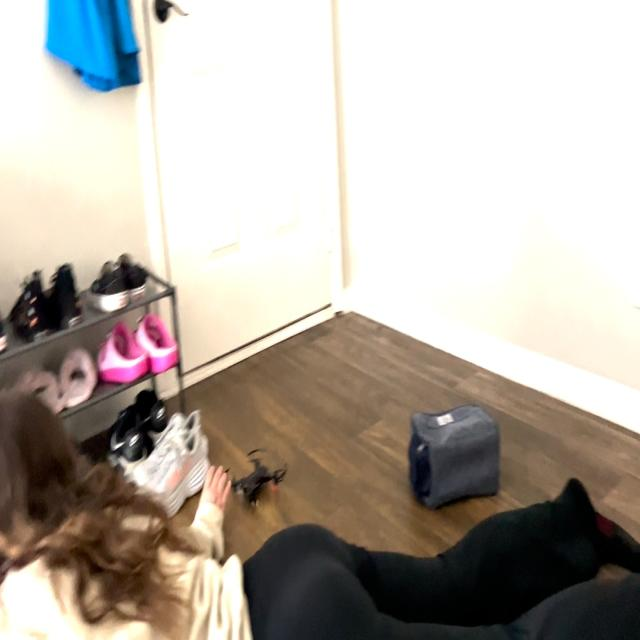drone: (212, 436, 296, 525)
